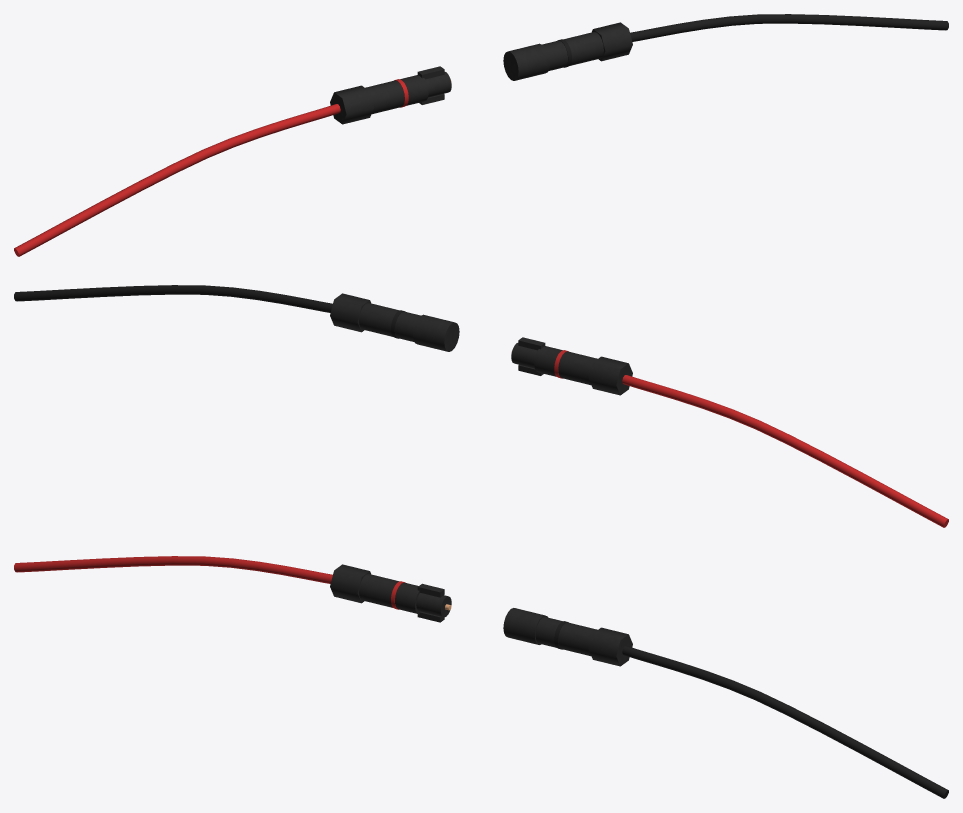
The model's file is A03b_MC4_Connector.fbx.
3 views of the same model, one above another, from view 1: azimuth 30°, elevation 25°; view 2: azimuth 150°, elevation 25°; view 3: azimuth 330°, elevation 25° (orthographic).
Parts seen in each view (by area): view 1: MC4_Male_POS, MC4_Female_NEG; view 2: MC4_Male_POS, MC4_Female_NEG; view 3: MC4_Female_NEG, MC4_Male_POS.
Part boxes in pixels (left/top/right/bottom): MC4_Male_POS: left=14, top=66, right=451, bottom=256; MC4_Female_NEG: left=503, top=14, right=948, bottom=80; MC4_Male_POS: left=511, top=337, right=948, bottom=527; MC4_Female_NEG: left=14, top=285, right=459, bottom=351; MC4_Female_NEG: left=503, top=608, right=948, bottom=798; MC4_Male_POS: left=14, top=556, right=451, bottom=622.
Size of the model in its own units: 0.7419 by 0.0649 by 0.023.
Materials: 4 (1 with a texture image).
